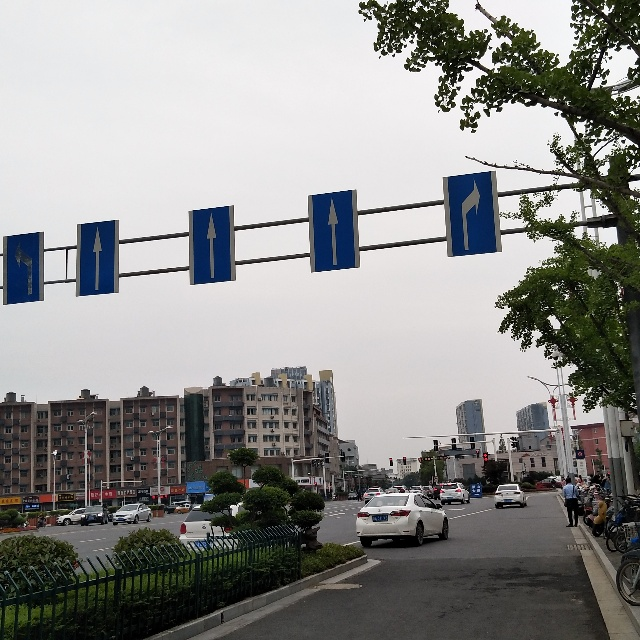left: (5, 236, 41, 305)
right: (450, 178, 497, 248)
straight: (314, 191, 353, 275), (197, 206, 235, 283), (78, 221, 117, 294)
